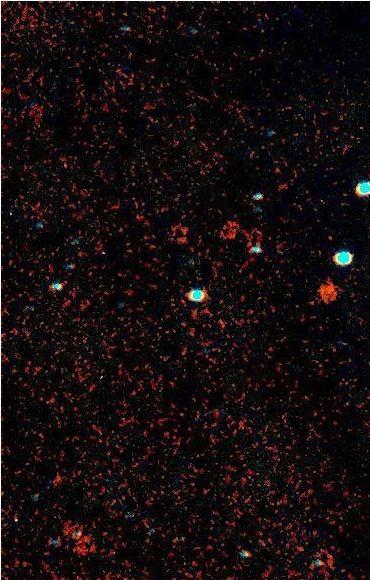star: (47, 151, 77, 181)
